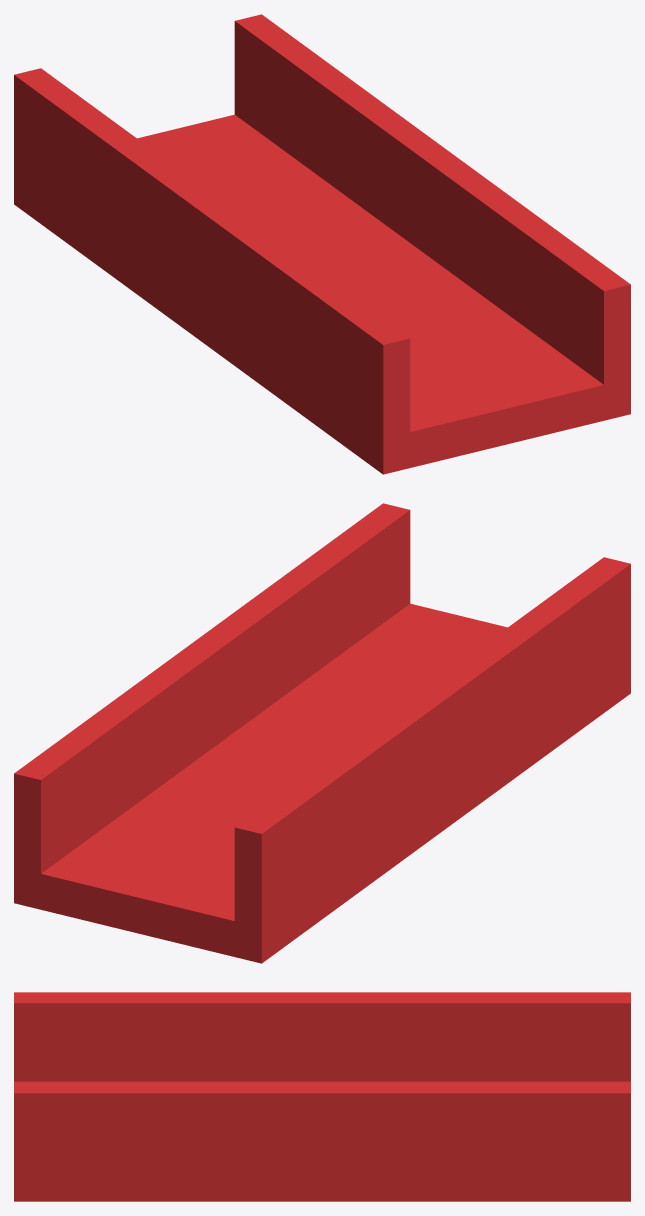
Rendered from pistaHotWheelsReta.fbx.
The picture shows the model from 3 angles, top to bottom: view 1: azimuth 30°, elevation 25°; view 2: azimuth 150°, elevation 25°; view 3: azimuth 270°, elevation 25°; orthographic projection. The views are drawn at different scales.
Parts seen in each view (by area): view 1: Cube; view 2: Cube; view 3: Cube.
Boxes of the visible parts, bbox=[...] form: Cube: bbox=[14, 14, 630, 474]; Cube: bbox=[14, 503, 630, 963]; Cube: bbox=[14, 992, 630, 1201].
Bounding box in the file's own units: 2 × 5.16 × 0.9999.
